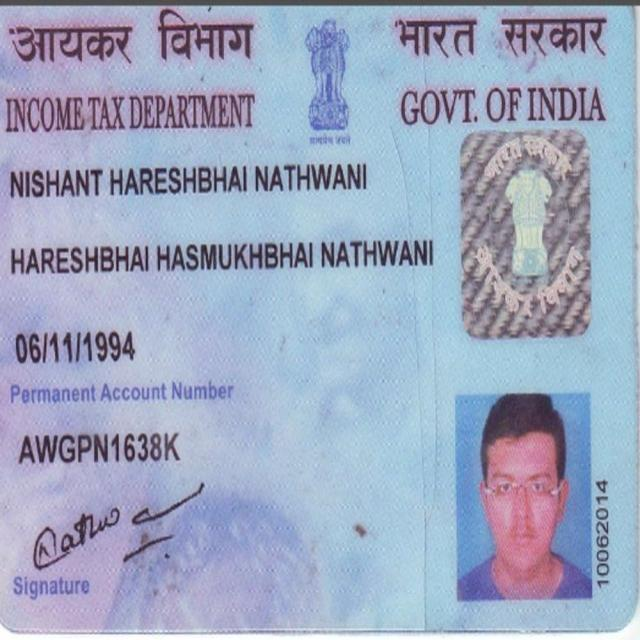pan_card: (0, 4, 635, 625)
